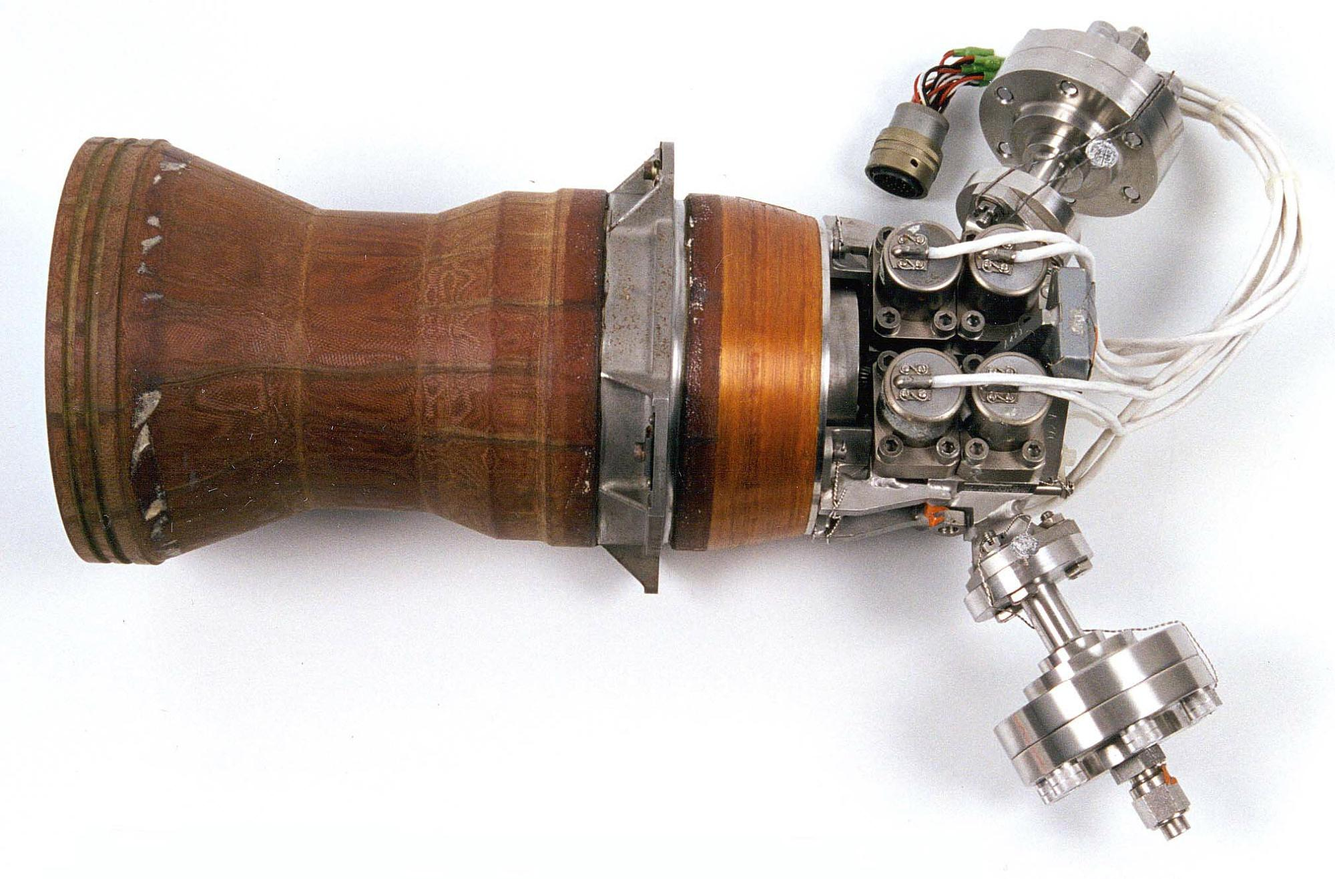thruster: (43, 133, 605, 579)
